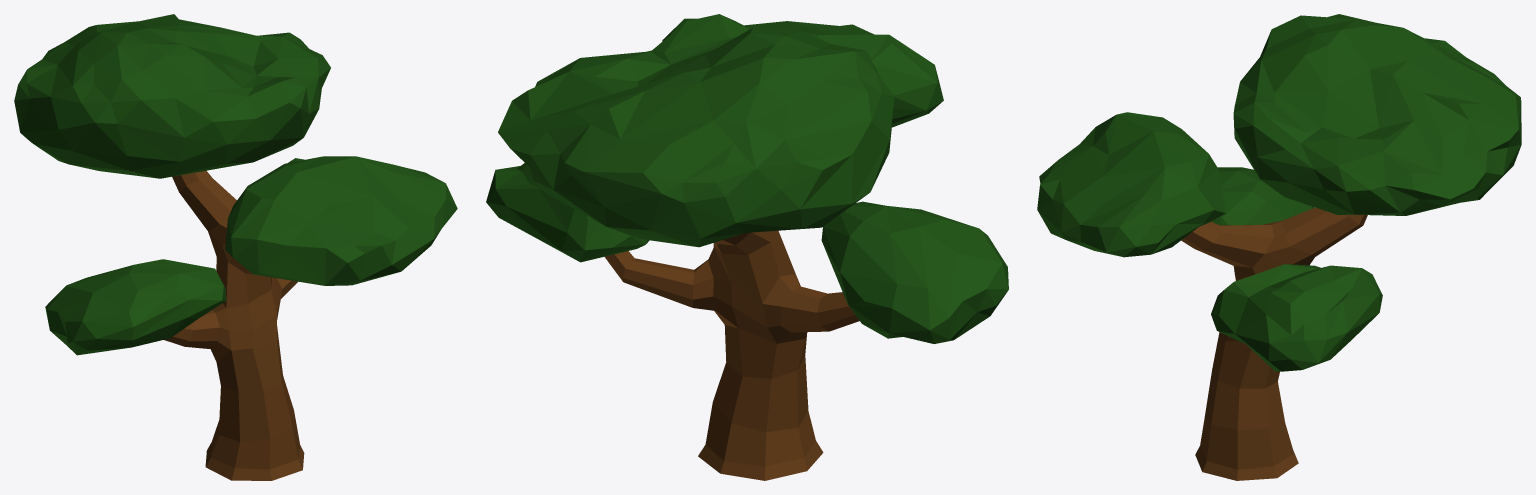
Rendered from 2020-09-08 WorldObjects.fbx_Tree4.fbx.
3 renders of one model, left to right at view 1: azimuth 30°, elevation 25°; view 2: azimuth 150°, elevation 25°; view 3: azimuth 270°, elevation 25°, orthographic. The views are drawn at different scales.
Parts seen in each view (by area): view 1: Tree 4; view 2: Tree 4; view 3: Tree 4.
Part boxes in pixels (x1,y1,x2,y2): Tree 4: [14, 14, 457, 480]; Tree 4: [486, 14, 1008, 480]; Tree 4: [1037, 14, 1521, 480].
Bounding box in the file's own units: 12.73 × 12.1 × 13.22.
